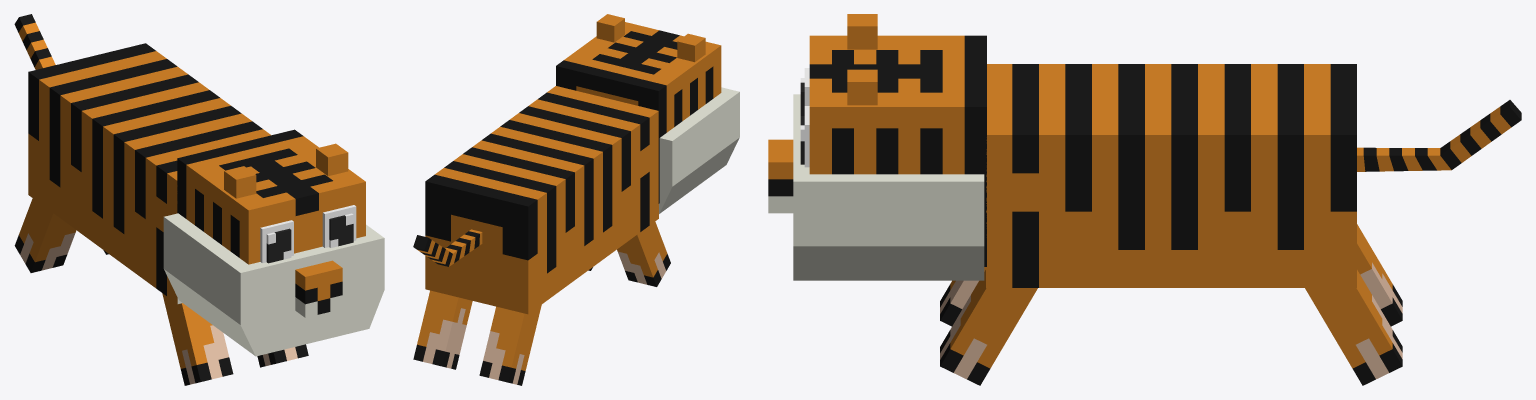
File: 动物_东北虎.fbx
3 renders of one model, left to right at view 1: azimuth 30°, elevation 25°; view 2: azimuth 150°, elevation 25°; view 3: azimuth 270°, elevation 25°, orthographic. The views are drawn at different scales.
Visible parts, largest first — view 1: Cube.017, Cube.014, Cube.007, Cube.011, Cube.013, Cube.010, Cube.008, Cube.012; view 2: Cube.017, Cube.007, Cube.011, Cube.014, Cube.008, Cube.012; view 3: Cube.017, Cube.007, Cube.014, Cube.011, Cube.012, Cube.008, Cube.010, Cube.013.
Part boxes in pixels (x1=…): Cube.017: x1=28, y1=43, x2=270, y2=304; Cube.014: x1=163, y1=213, x2=384, y2=356; Cube.007: x1=177, y1=129, x2=365, y2=264; Cube.011: x1=14, y1=198, x2=308, y2=385; Cube.013: x1=260, y1=205, x2=356, y2=263; Cube.010: x1=295, y1=260, x2=342, y2=317; Cube.008: x1=224, y1=143, x2=348, y2=198; Cube.012: x1=14, y1=14, x2=55, y2=69; Cube.017: x1=425, y1=86, x2=658, y2=314; Cube.007: x1=556, y1=22, x2=721, y2=203; Cube.011: x1=413, y1=222, x2=670, y2=385; Cube.014: x1=659, y1=87, x2=739, y2=213; Cube.008: x1=596, y1=14, x2=705, y2=62; Cube.012: x1=413, y1=229, x2=482, y2=266; Cube.017: x1=986, y1=64, x2=1356, y2=287; Cube.007: x1=809, y1=35, x2=986, y2=266; Cube.014: x1=793, y1=94, x2=984, y2=280; Cube.011: x1=940, y1=224, x2=1402, y2=385; Cube.012: x1=1357, y1=100, x2=1521, y2=171; Cube.008: x1=847, y1=14, x2=877, y2=105; Cube.010: x1=768, y1=139, x2=793, y2=213; Cube.013: x1=800, y1=68, x2=809, y2=167.
Bounding box in the file's own units: 97.21 × 159 × 355.
